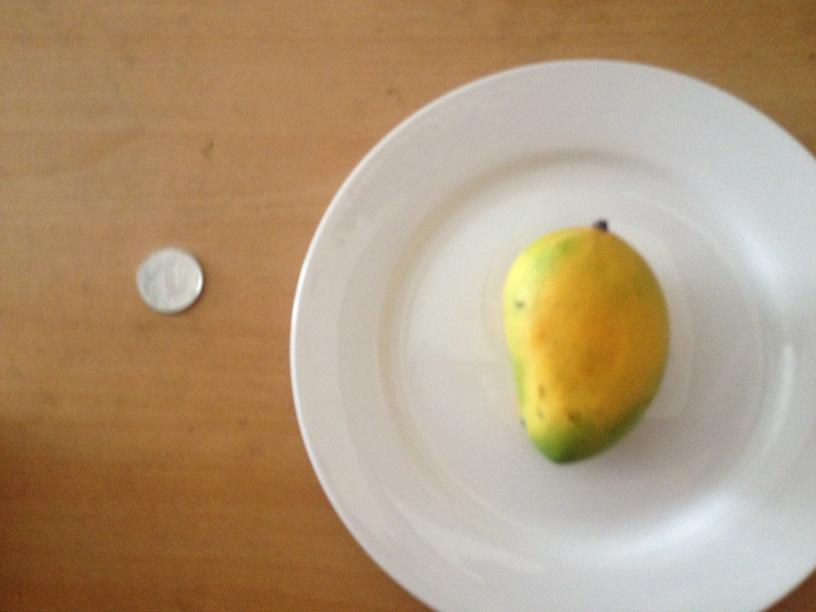coin: (135, 247, 203, 312)
mango: (505, 224, 670, 462)
